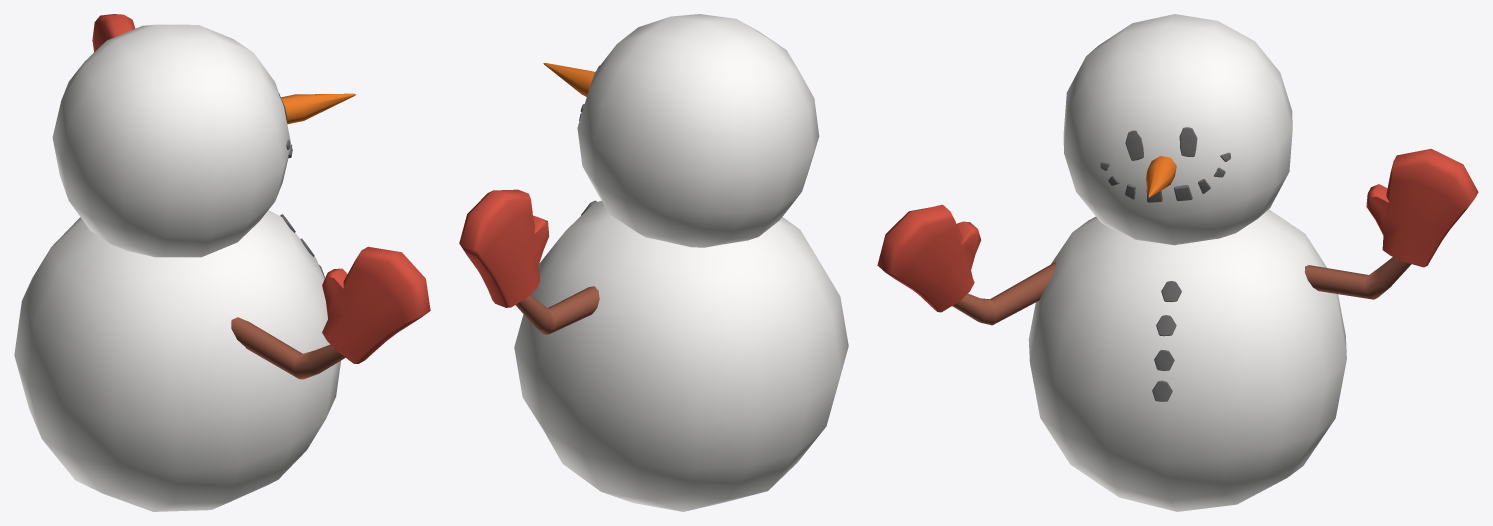
The model's file is Christmas_Snowman_2_231109.glb.
3 renders of one model, left to right at view 1: azimuth 30°, elevation 25°; view 2: azimuth 150°, elevation 25°; view 3: azimuth 270°, elevation 25°, orthographic.
Visible parts, largest first — view 1: Snowman_2; view 2: Snowman_2; view 3: Snowman_2.
Boxes of the visible parts, x1,y1,x2,y2 form: Snowman_2: (14,14,430,511); Snowman_2: (459,14,848,511); Snowman_2: (877,14,1478,511).
Bounding box in the file's own units: 0.5415 × 0.8149 × 0.9612.
Materials: 1 (1 with a texture image).
